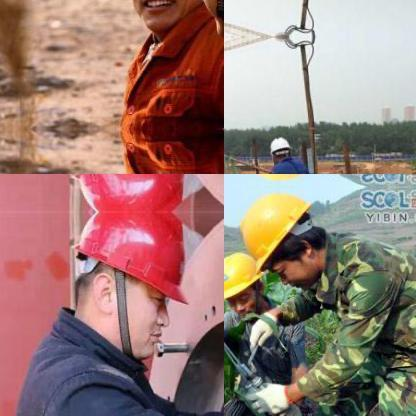Helmet: (60, 212, 192, 354), (238, 192, 328, 276), (60, 174, 194, 210), (110, 0, 223, 36), (224, 251, 271, 325), (268, 135, 289, 159)
